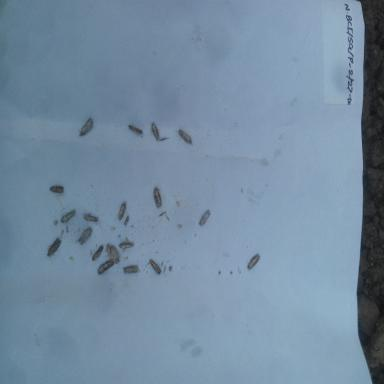pbw: (45, 236, 63, 260), (77, 116, 93, 139), (125, 119, 144, 138), (109, 240, 124, 264), (151, 185, 164, 211), (149, 119, 163, 143), (196, 208, 212, 228), (245, 252, 261, 272), (59, 207, 77, 224), (96, 259, 116, 274), (178, 127, 194, 145), (77, 228, 94, 244), (103, 240, 114, 263), (149, 257, 163, 275), (82, 209, 98, 224), (91, 242, 103, 261), (48, 183, 65, 196), (116, 201, 127, 221), (123, 261, 139, 274), (118, 240, 136, 250)
